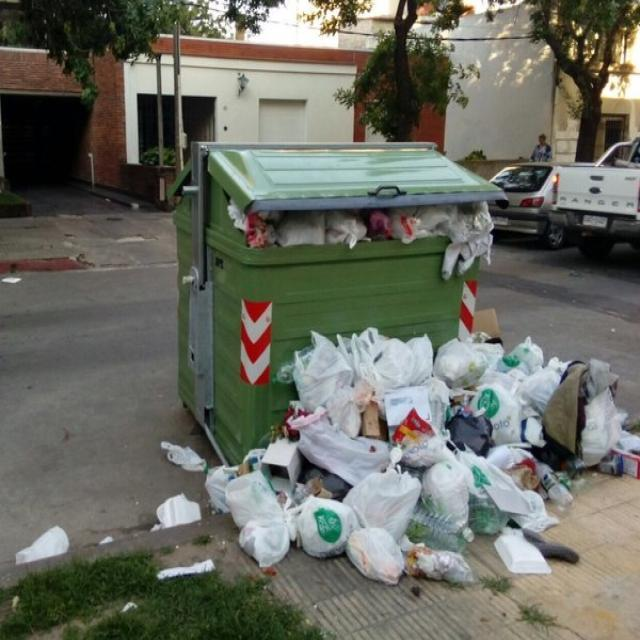garbage: (289, 336, 617, 571), (138, 420, 308, 566), (224, 208, 494, 272), (13, 522, 94, 584), (158, 550, 230, 590), (613, 405, 636, 498), (472, 290, 494, 364)
